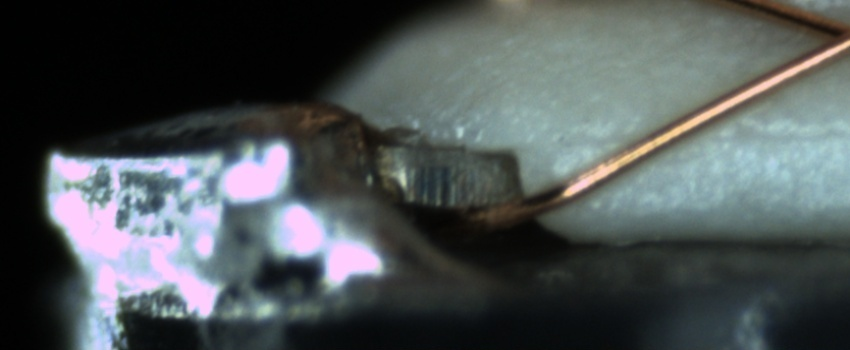CL: (798, 5, 850, 67)
DL: (558, 104, 849, 168)
